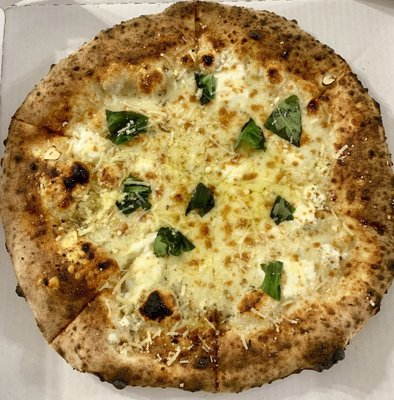curry: (153, 227, 195, 258), (185, 183, 214, 217)
